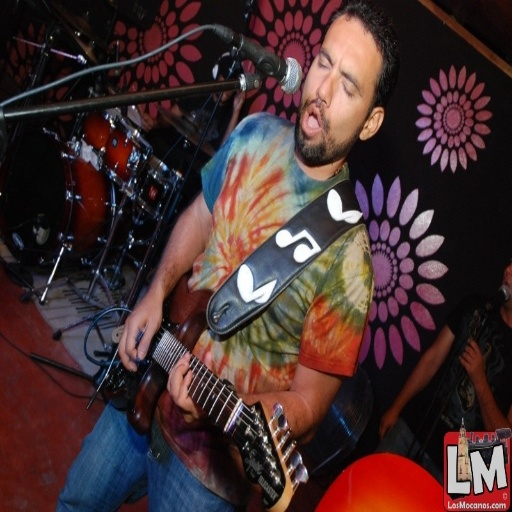hand: (165, 348, 215, 424), (119, 287, 162, 374), (462, 329, 497, 418), (380, 405, 397, 439)
